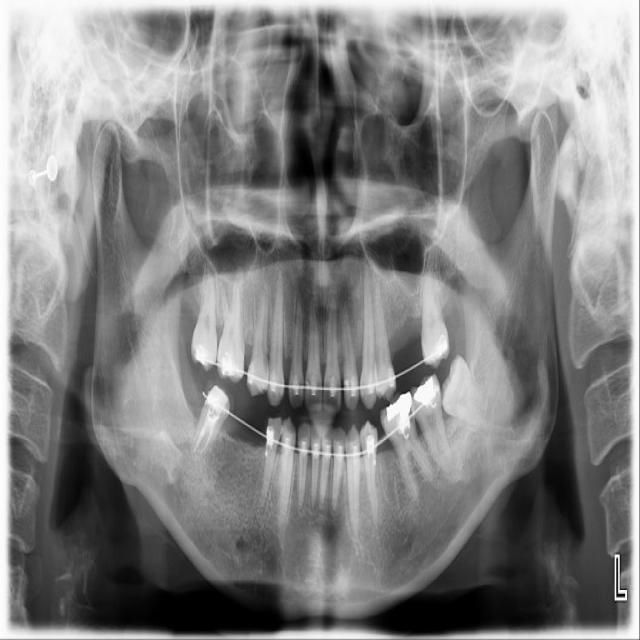Filling: (205, 381, 234, 417)
Root Canal Treatment: (199, 427, 214, 452), (194, 424, 208, 450)
impacted tooth: (441, 356, 487, 426)
